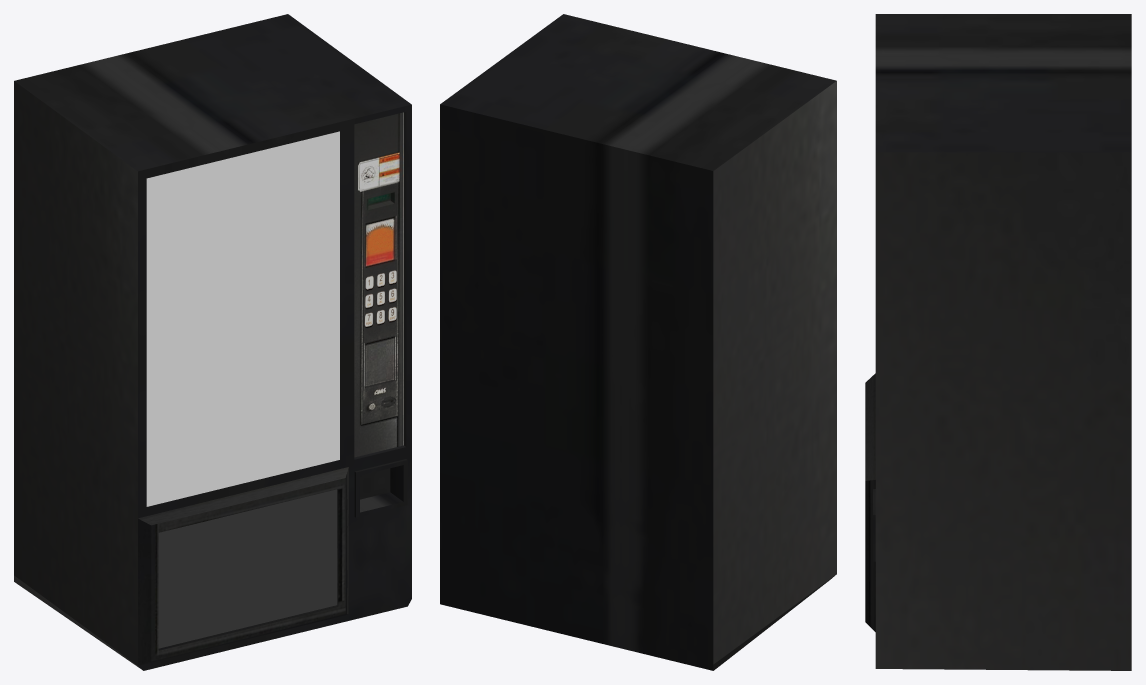
The model's file is VendingMachine_Clean.fbx.
3 views of the same model, side by side, from view 1: azimuth 30°, elevation 25°; view 2: azimuth 150°, elevation 25°; view 3: azimuth 270°, elevation 25° (orthographic). The views are drawn at different scales.
Parts seen in each view (by area): view 1: VendingMachine_Clean; view 2: VendingMachine_Clean; view 3: VendingMachine_Clean.
Part boxes in pixels (box(x1,y1,x2,y2)): VendingMachine_Clean: box(14, 14, 411, 670); VendingMachine_Clean: box(440, 14, 836, 670); VendingMachine_Clean: box(865, 14, 1131, 670).
Size of the model in its own units: 278 by 485 by 226.
